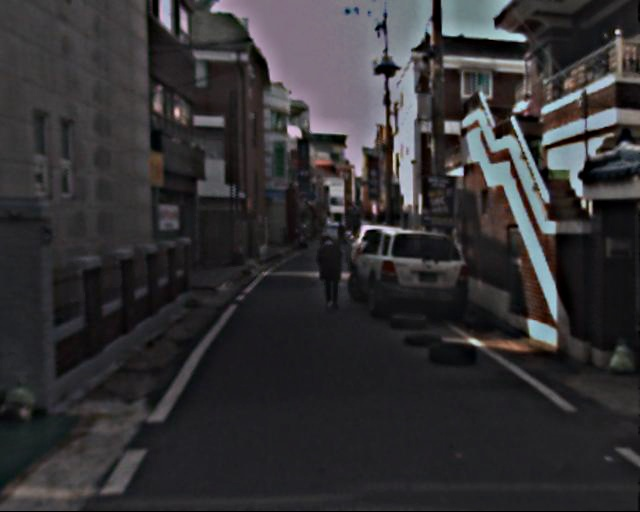person: (314, 231, 348, 313)
